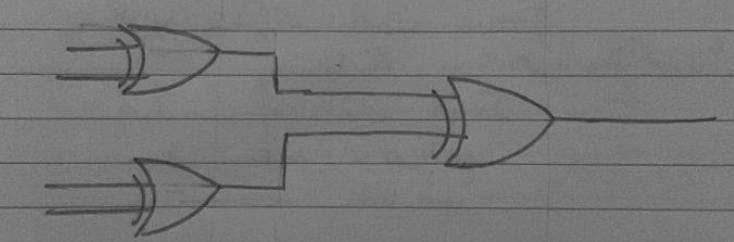XOR: (423, 58, 578, 178), (112, 8, 241, 106), (116, 141, 226, 241)
